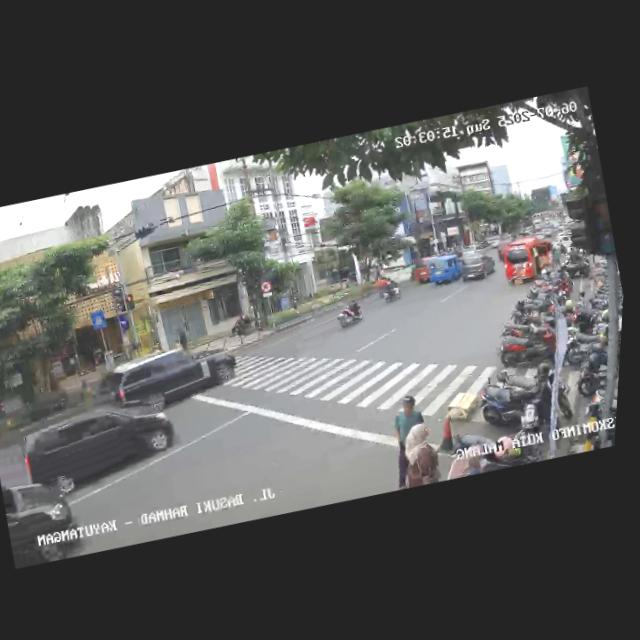car: (14, 392, 184, 508), (92, 332, 246, 426), (0, 466, 88, 568), (498, 230, 564, 289), (412, 250, 465, 293), (457, 247, 500, 285)
motorcycle: (332, 292, 367, 330), (375, 272, 403, 305)
person: (377, 393, 440, 491), (394, 419, 447, 488)
